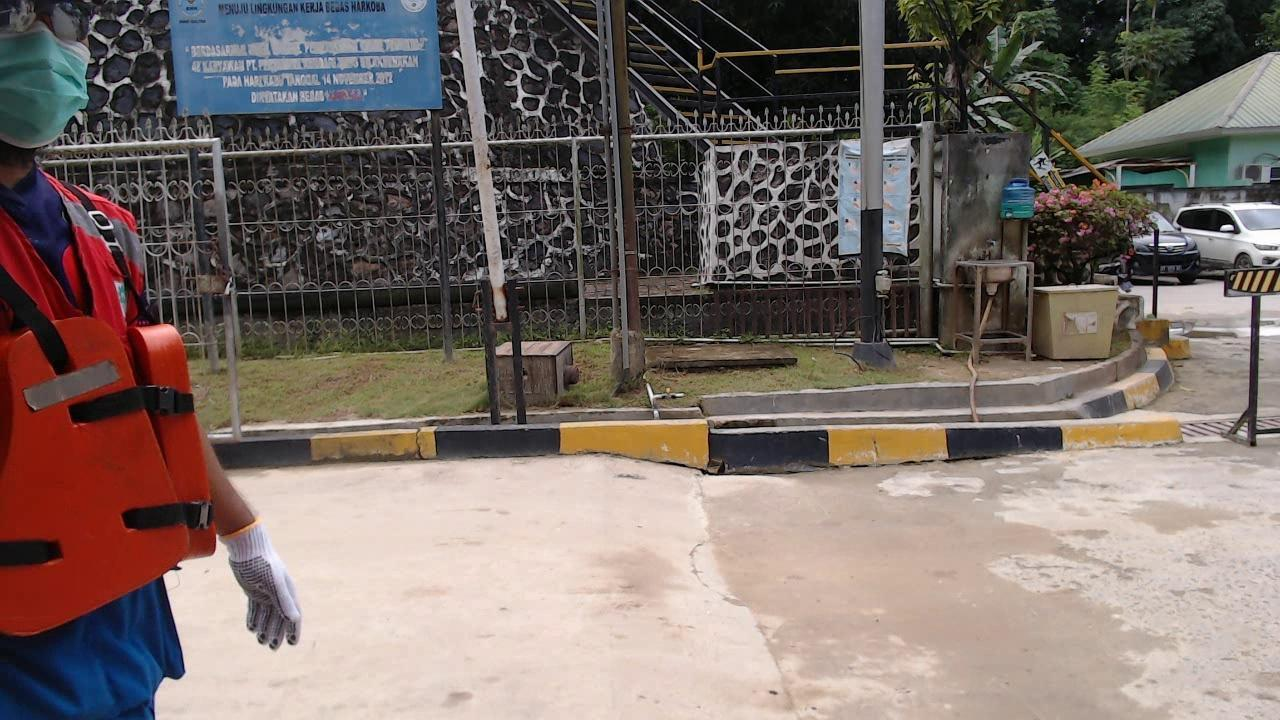vest: (0, 320, 219, 633)
